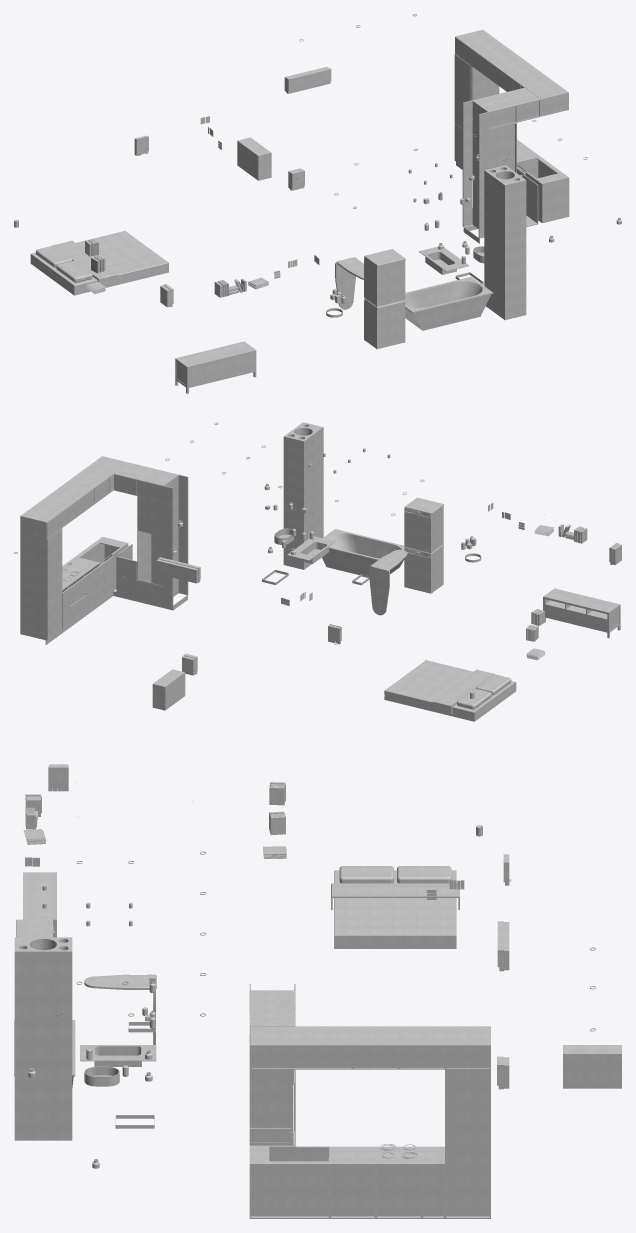
3 views of the same model, one above another, from view 1: azimuth 30°, elevation 25°; view 2: azimuth 150°, elevation 25°; view 3: azimuth 270°, elevation 25° (orthographic). The views are drawn at different scales.
Size of the model in its own units: 9.99 by 2.72 by 7.94.
1 material, 1 textured.
